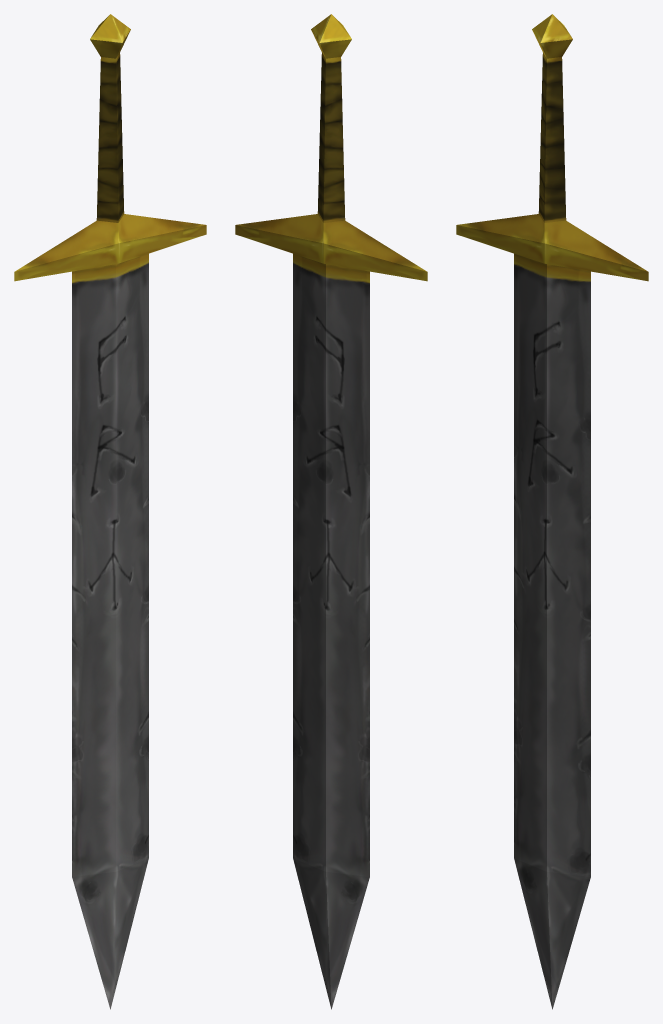
File: object_sword.fbx
The picture shows the model from 3 angles, left to right: view 1: azimuth 30°, elevation 25°; view 2: azimuth 150°, elevation 25°; view 3: azimuth 330°, elevation 25°; orthographic projection.
Parts seen in each view (by area): view 1: Box01; view 2: Box01; view 3: Box01.
Part boxes in pixels (x1,y1,x2,y2): Box01: (14, 14, 206, 1009); Box01: (235, 14, 427, 1009); Box01: (456, 14, 648, 1009).
Size of the model in its own units: 29.7 by 6.36 by 147.
Materials: 1 (1 with a texture image).
